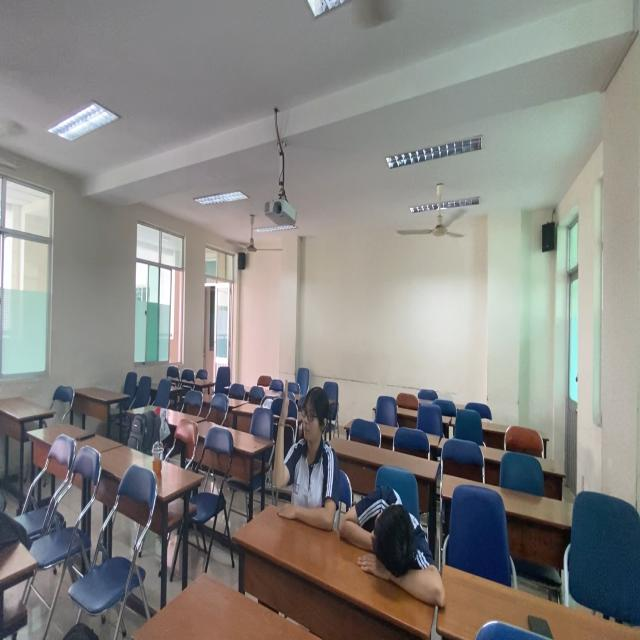raise_hand: (270, 375, 337, 527)
sleep: (338, 480, 450, 612)
